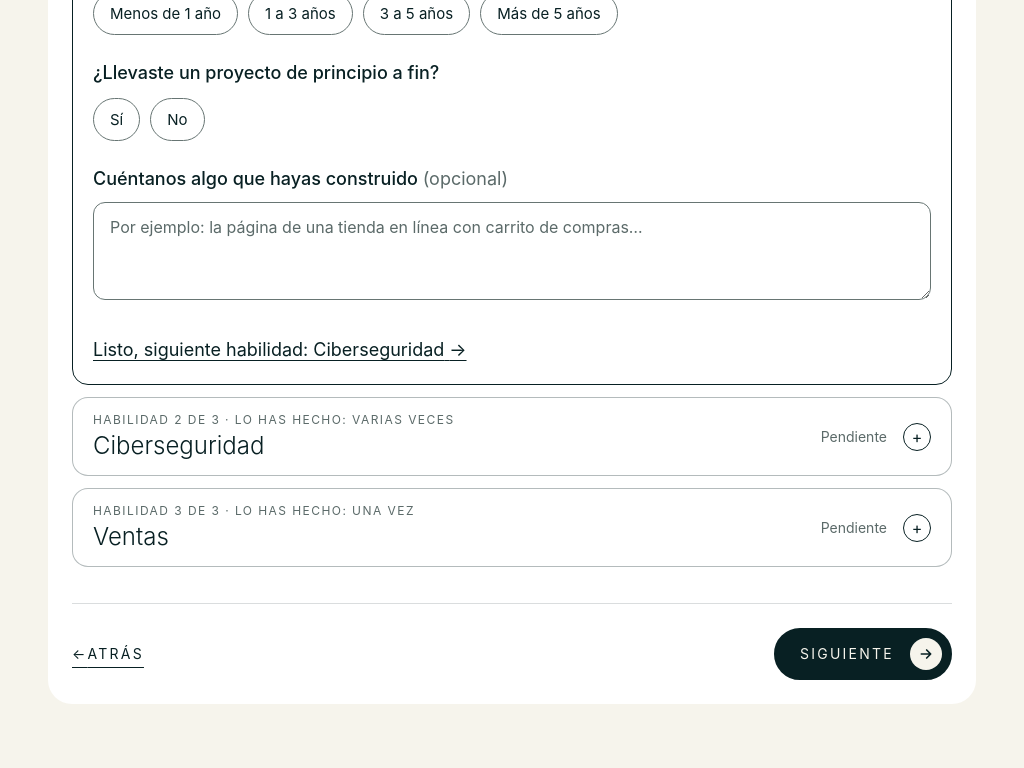
Test: ProfundizarView: guardar › si falla el guardado de una habilidad, se detiene, avisa y no navega
This screenshot has width=1024, height=768.
(page scrolled)
Click the button "Siguiente".
click(863, 654)  # box [774,628,952,680]
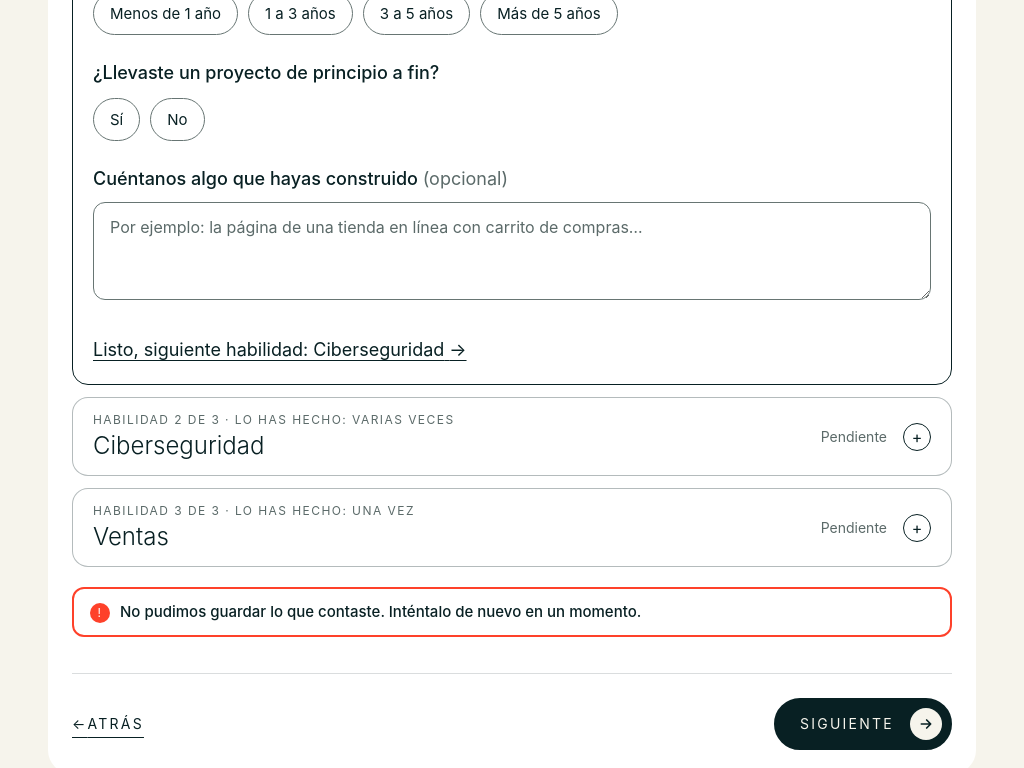
Expected: the button "Siguiente" is enabled, [774,698,952,750]
Expected: the message shows "No pudimos guardar lo que contaste. Inténtalo de nuevo en un momento.", [120,602,641,621]
